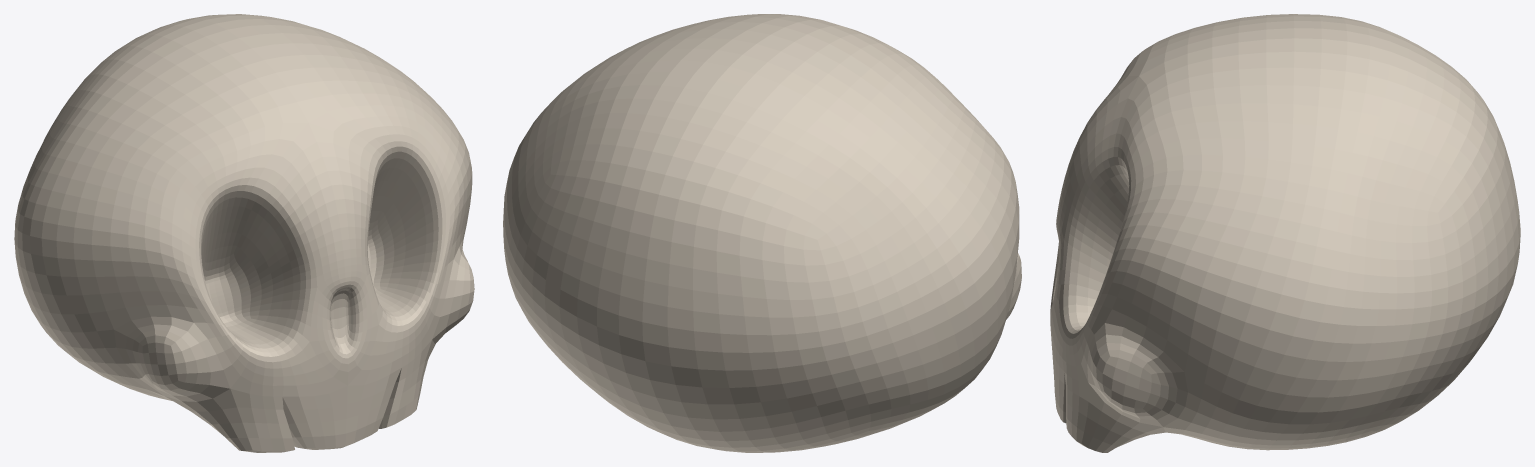
The model's file is skull.fbx.
3 views of the same model, side by side, from view 1: azimuth 30°, elevation 25°; view 2: azimuth 150°, elevation 25°; view 3: azimuth 270°, elevation 25° (orthographic). The views are drawn at different scales.
Visible parts, largest first — view 1: Cube.001; view 2: Cube.001; view 3: Cube.001.
Part boxes in pixels (x1,y1,x2,y2): Cube.001: [14, 14, 474, 452]; Cube.001: [503, 14, 1021, 452]; Cube.001: [1050, 14, 1520, 452].
Bounding box in the file's own units: 188 × 147 × 164.
